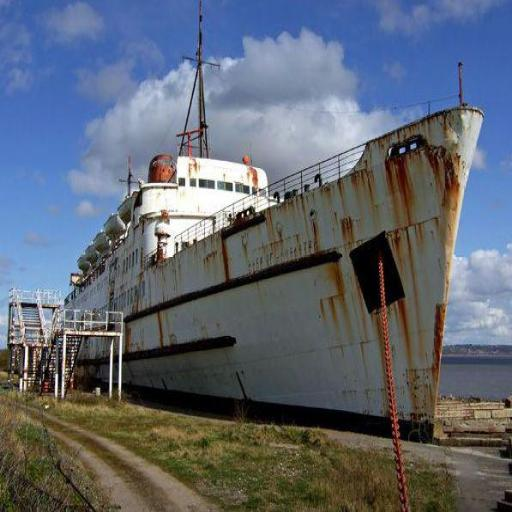corrosion: (388, 156, 422, 225), (426, 304, 446, 409), (322, 263, 345, 316), (341, 215, 354, 248), (247, 165, 261, 188), (327, 300, 339, 321), (222, 240, 228, 279), (388, 167, 393, 195)
